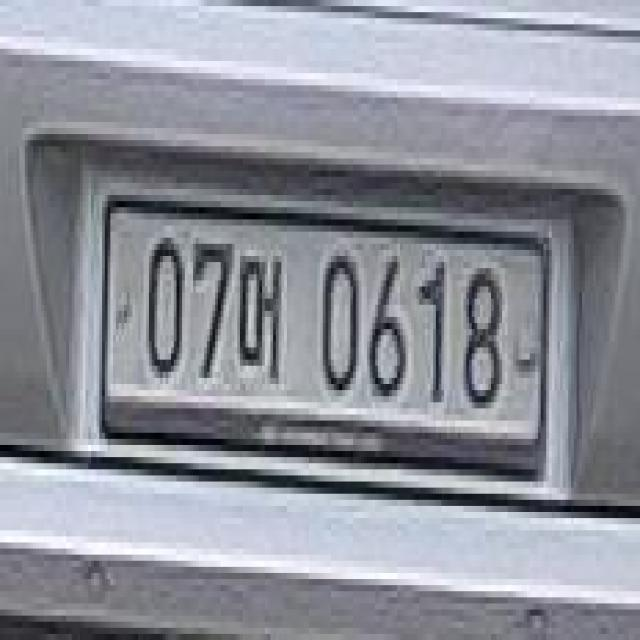illegal_plate: (94, 183, 558, 493)
